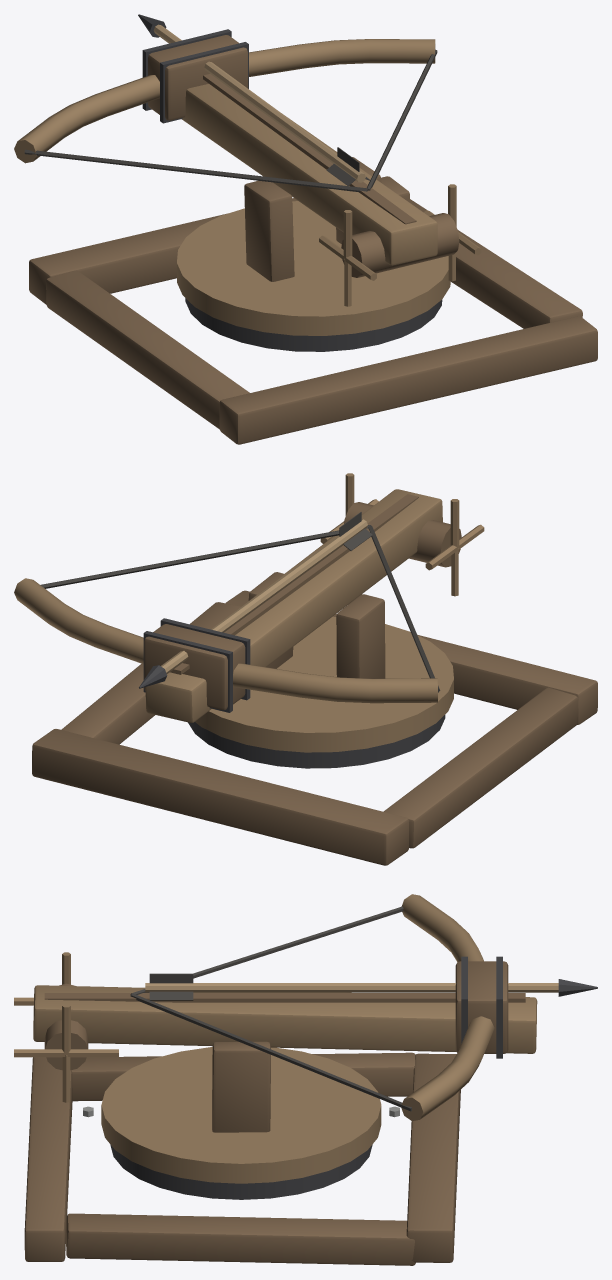
The model's file is ballista.glb.
The picture shows the model from 3 angles, top to bottom: view 1: azimuth 30°, elevation 25°; view 2: azimuth 150°, elevation 25°; view 3: azimuth 270°, elevation 25°; orthographic projection.
Parts seen in each view (by area): view 1: Part, Gun, Turret, Rocket0; view 2: Part, Gun, Turret, Rocket0; view 3: Part, Gun, Turret, Rocket0.
Boxes of the visible parts, <box> form: Part: <box>29,176,597,444</box>; Gun: <box>14,29,481,306</box>; Turret: <box>177,157,450,335</box>; Rocket0: <box>138,14,370,186</box>; Part: <box>32,590,597,865</box>; Gun: <box>14,473,484,722</box>; Turret: <box>195,572,453,752</box>; Rocket0: <box>139,512,372,688</box>; Part: <box>24,1052,460,1265</box>; Gun: <box>14,894,537,1121</box>; Turret: <box>101,1041,381,1183</box>; Rocket0: <box>145,973,597,1000</box>.
Size of the model in its own units: 1.13 by 0.518 by 1.33.
